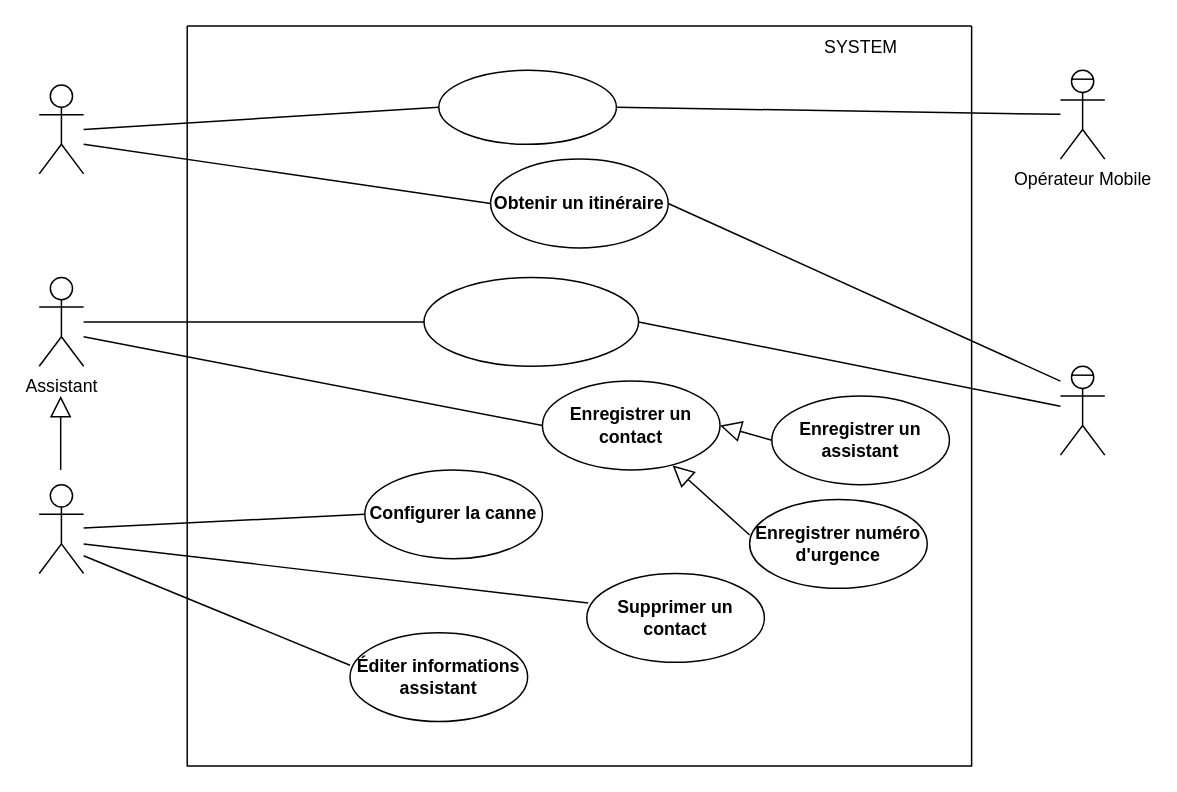
Image size: 1177x792. Some labels were removed from this diagram. The shapes that lost their labels are listed below. From the top down, each one's box as (x1, y1, x2, y2) in pixels, then its label:
(437, 69, 616, 144): Envoyer message d'urgence
(38, 84, 84, 174): Aveugle
(423, 276, 639, 366): Localisation GPS de la canne
(1059, 365, 1105, 455): Fournisseur de Localisation
(38, 483, 84, 574): Super Assistant
